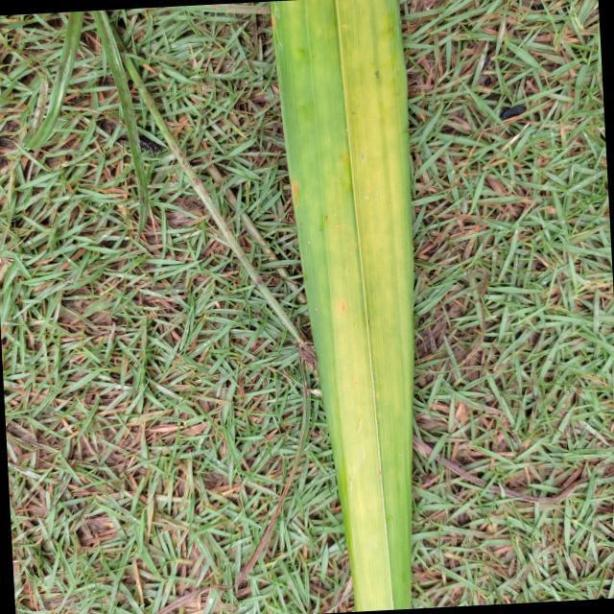nitrogen: (269, 0, 411, 614)
